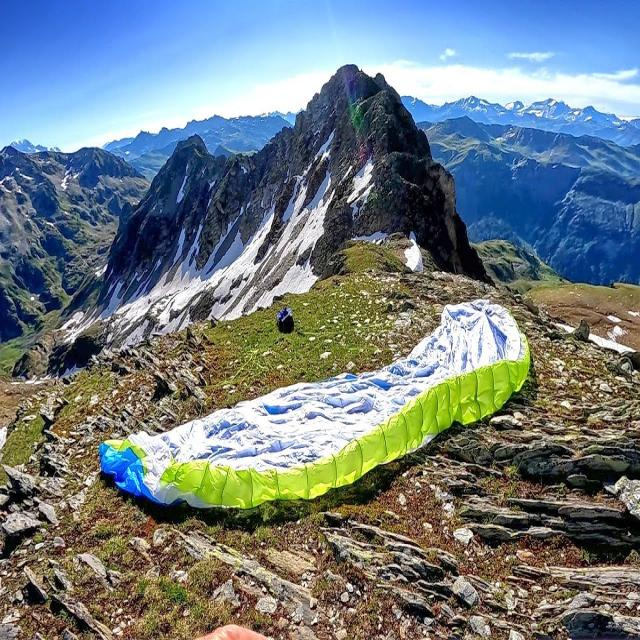paraglider: (98, 297, 530, 512)
